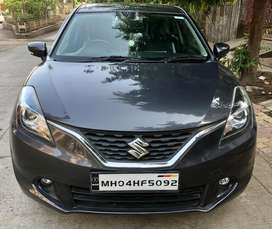MH04HF5092: (90, 173, 178, 190)
